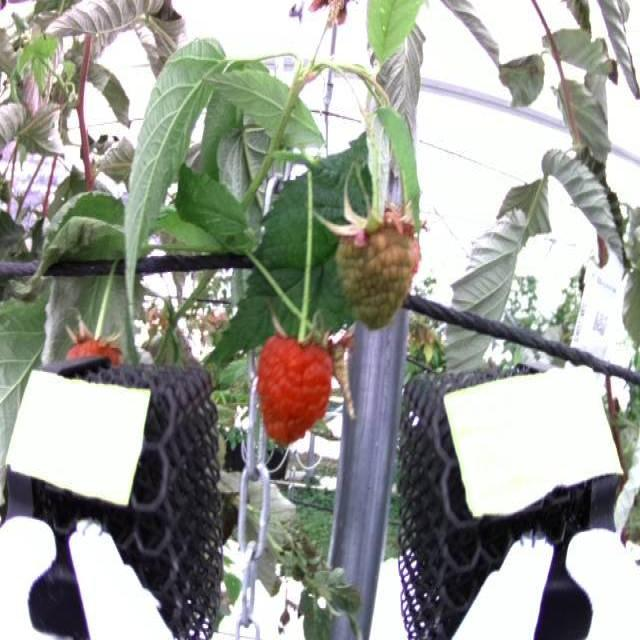Riped berries: (256, 326, 340, 440), (65, 319, 126, 368)
